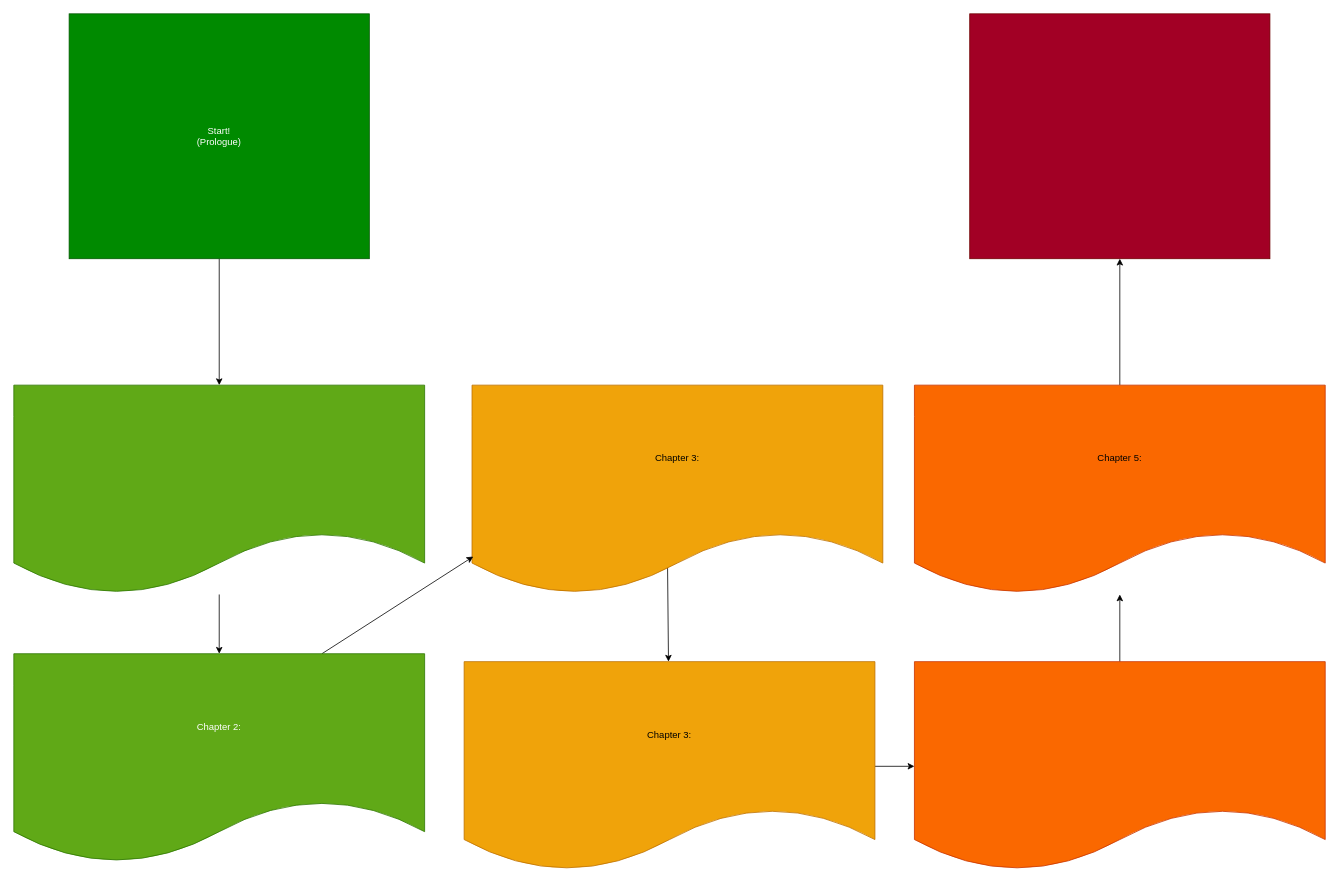
Image size: 1339x885. Some labels were removed from this diagram. The shapes that lost their labels are listed below. From the top down, each one's box as (x1, y1, x2, y2) in pixels, then its label:
(969, 13, 1270, 259): GOAL (Epilogue)
(13, 384, 425, 594): Chapter 1:
(914, 661, 1325, 871): Chapter 4:
